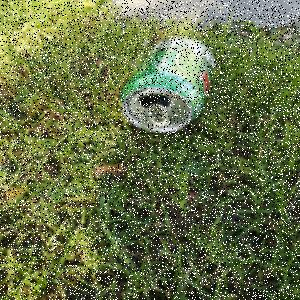Can: (120, 37, 218, 135)
